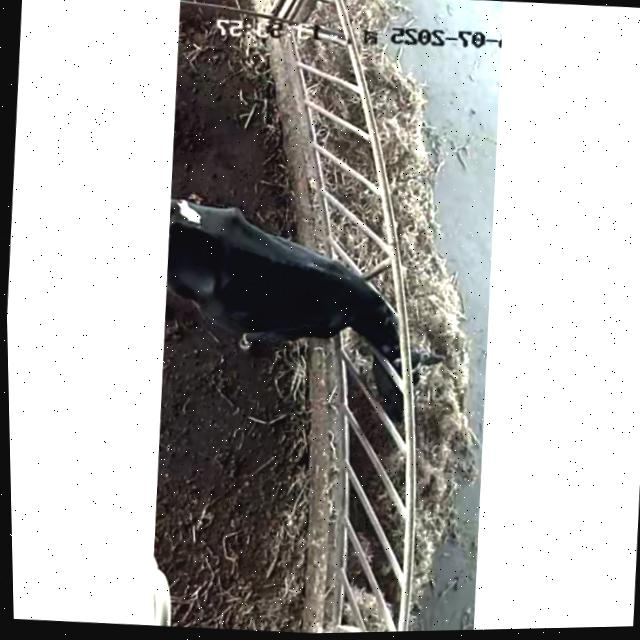eat: (232, 231, 475, 422)
